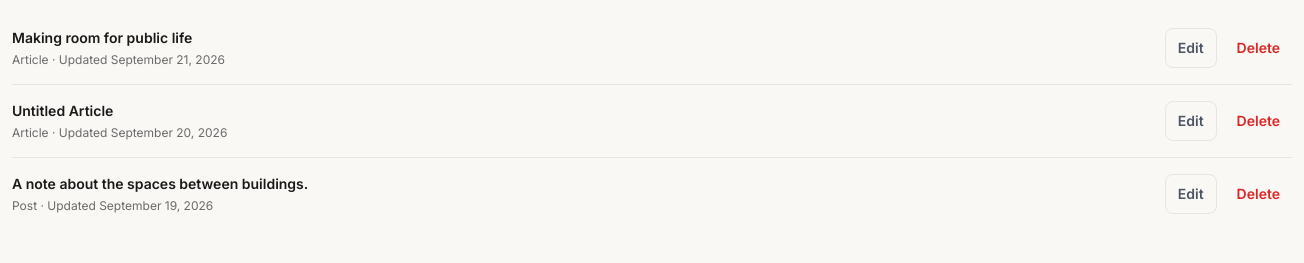
Test: draft actions › retains the draft and reports a failed deletion
What coordinates should you click on to do the following:
click the button "Delete" in the row of "Making room for public life"
I would click on:
 (1258, 48)
Its box is [1225,28,1292,68].
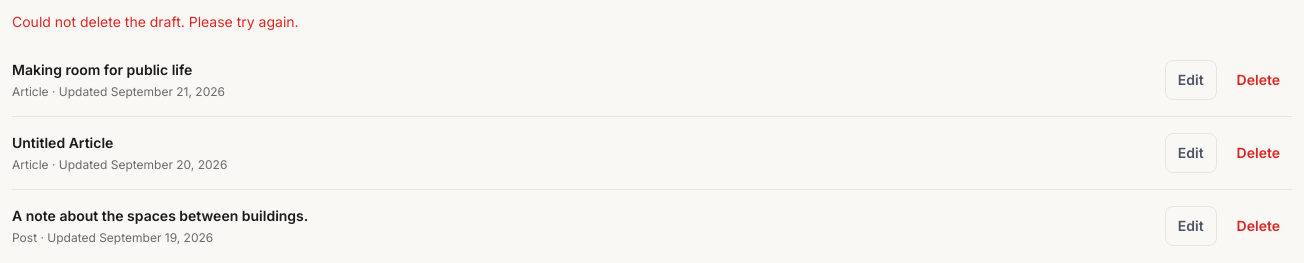
Check: the text "Making room for public life" is shown, box [12,61,192,78]
Check: the message shows "Could not delete", box [12,13,299,30]
